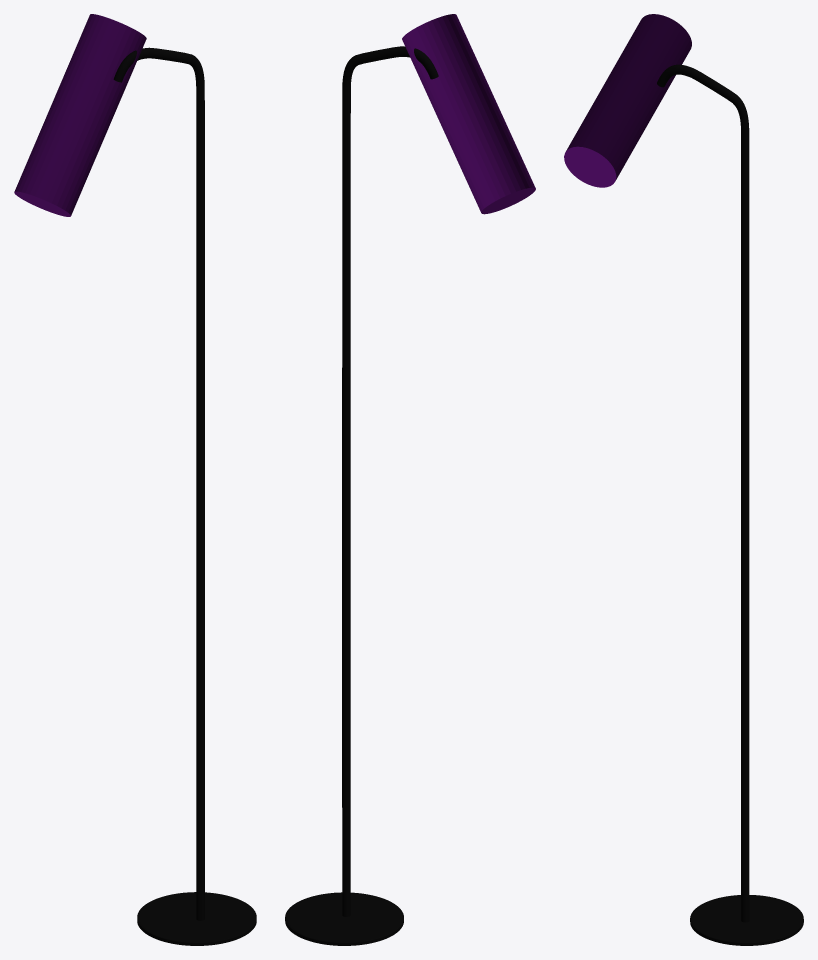
The model's file is _enHoc.001.fbx.
The picture shows the model from 3 angles, left to right: view 1: azimuth 30°, elevation 25°; view 2: azimuth 150°, elevation 25°; view 3: azimuth 330°, elevation 25°; orthographic projection. The views are drawn at different scales.
Parts seen in each view (by area): view 1: DenHoc.001, Cylinder.008; view 2: DenHoc.001, Cylinder.008; view 3: DenHoc.001, Cylinder.008.
Boxes of the visible parts, x1,y1,x2,y2 form: DenHoc.001: [113, 47, 256, 945]; Cylinder.008: [14, 14, 146, 216]; DenHoc.001: [285, 46, 438, 945]; Cylinder.008: [402, 14, 535, 214]; DenHoc.001: [657, 64, 803, 945]; Cylinder.008: [564, 14, 691, 187].
Bounding box in the file's own units: 0.6394 × 2.45 × 0.282.
